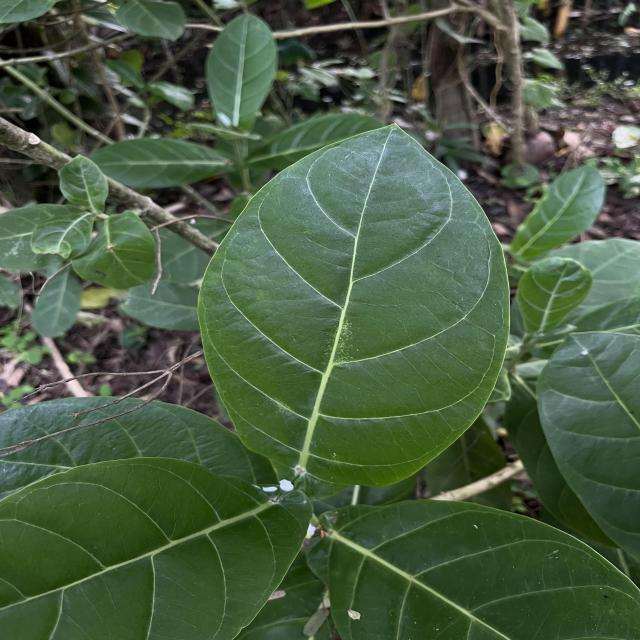Calotropis gigantea: (193, 118, 516, 498), (0, 452, 309, 640), (315, 495, 640, 640), (530, 325, 640, 568), (204, 12, 282, 130), (88, 136, 228, 190)
